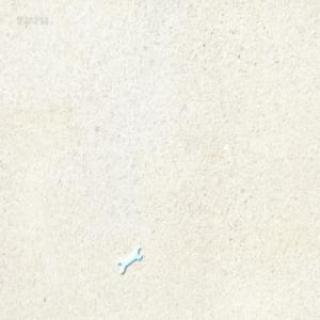Wrenchtrack_idkeyframe: (117, 243, 142, 274)
